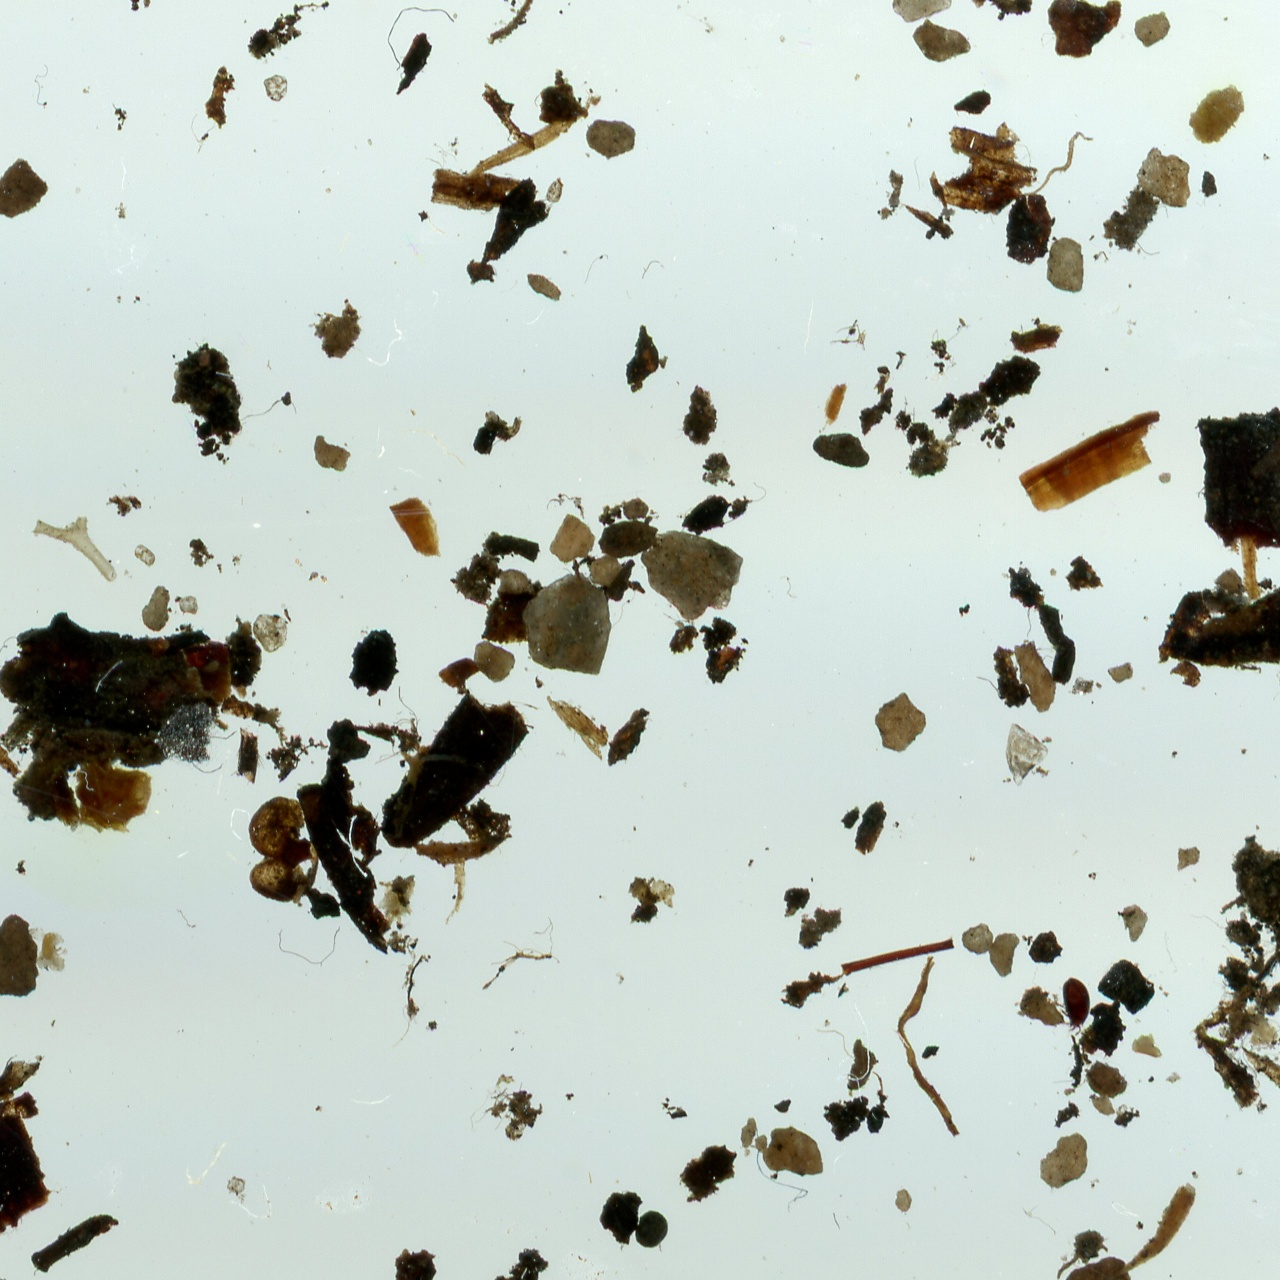arthropod: (1055, 974, 1092, 1038)
